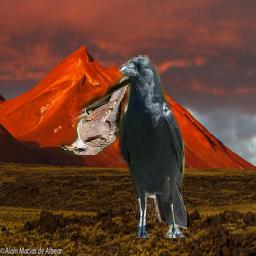Crow: (119, 56, 187, 239)
Cuckoo: (62, 75, 131, 156)
